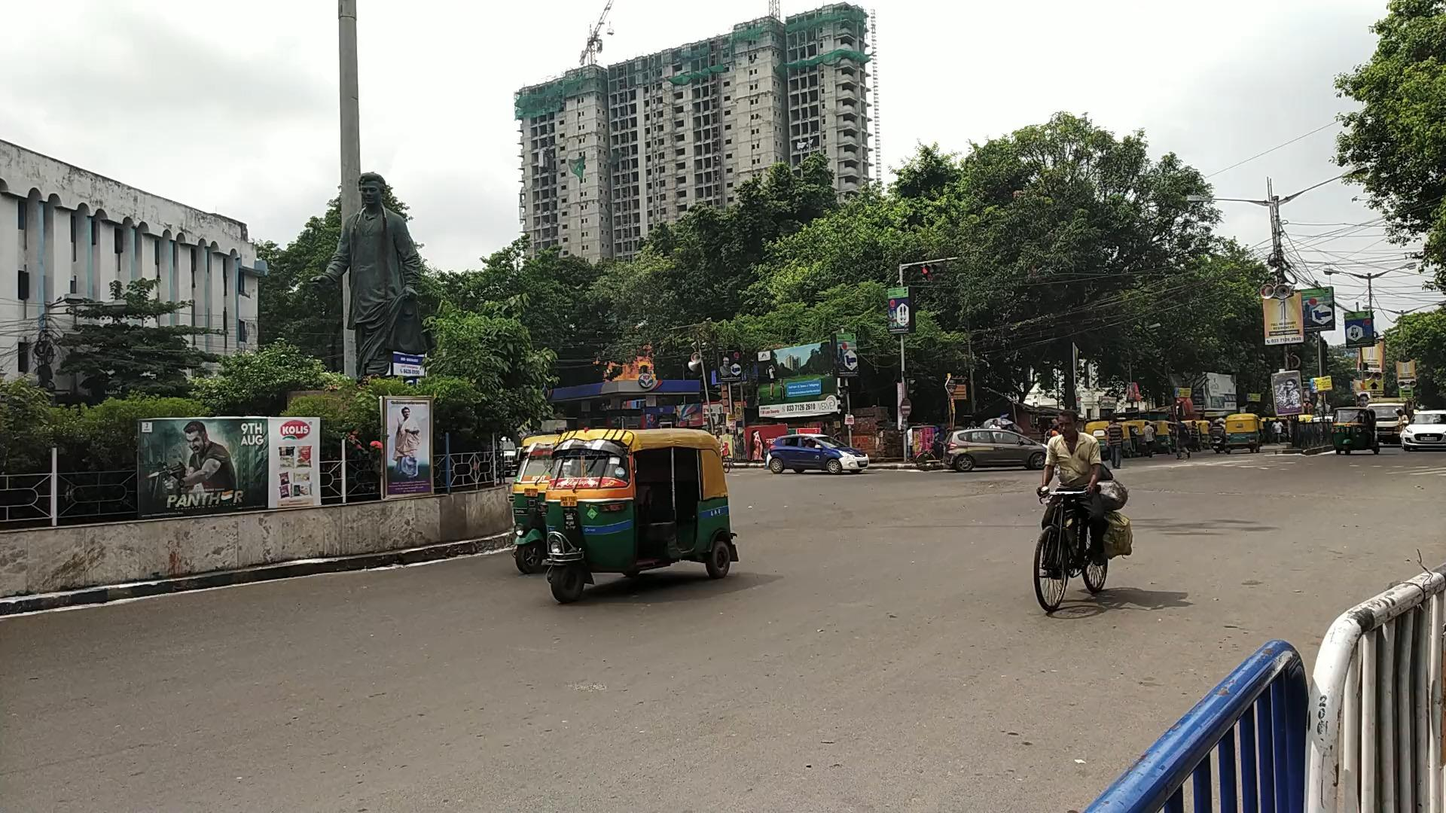bicyclist: (1033, 410, 1132, 613)
no-helmet: (1058, 411, 1079, 437)
